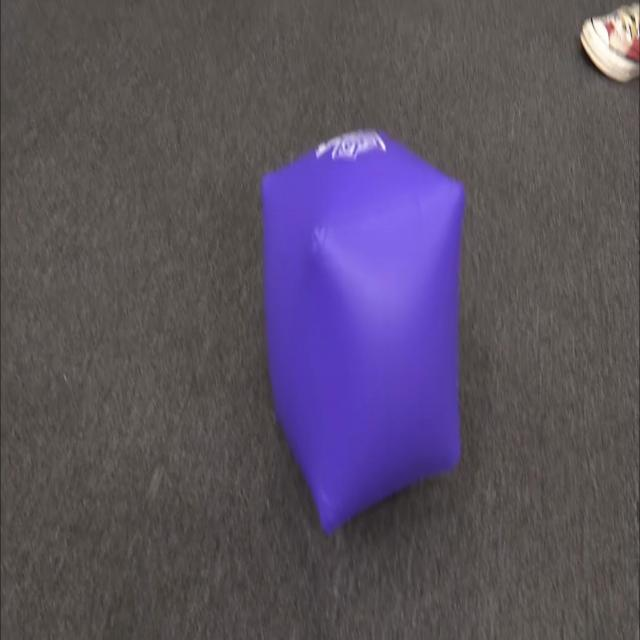frc_cube: (256, 111, 467, 551)
